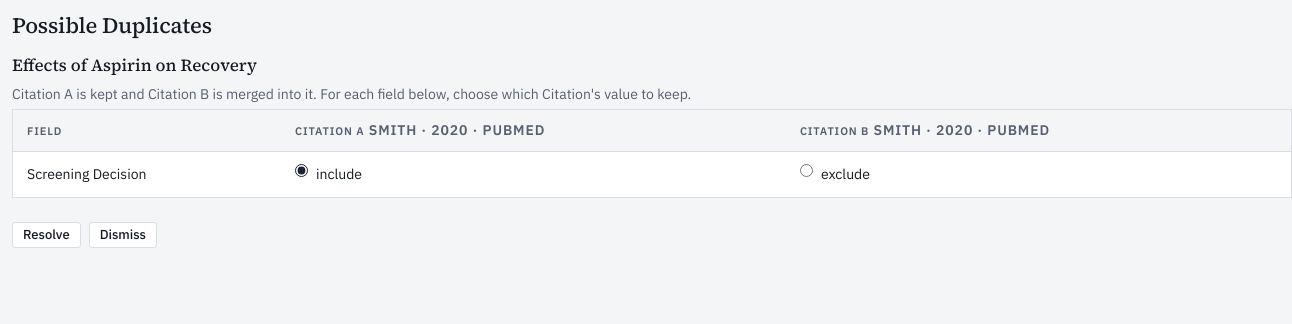
Scenario: PossibleDuplicatesPanel › shows an error when dismissing fails
Click the button "Dismiss": x=123, y=235 [89, 222, 157, 248]
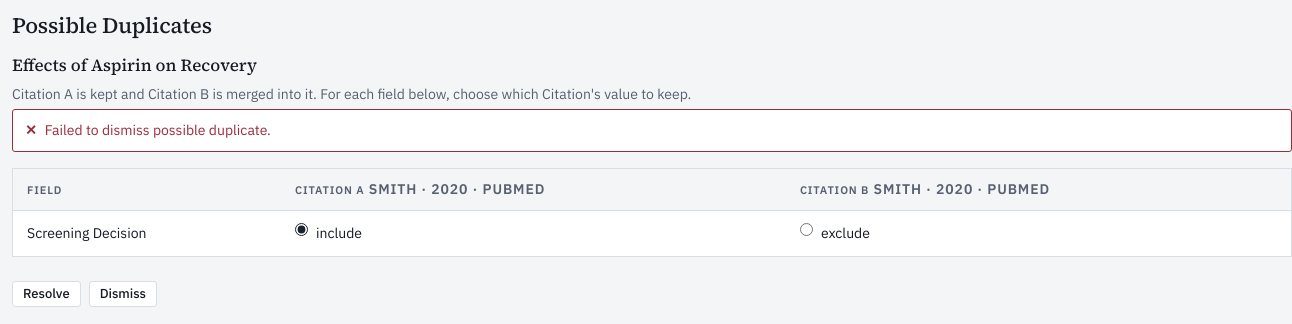
Check: the message shows "Failed to dismiss", box [45, 122, 271, 140]
